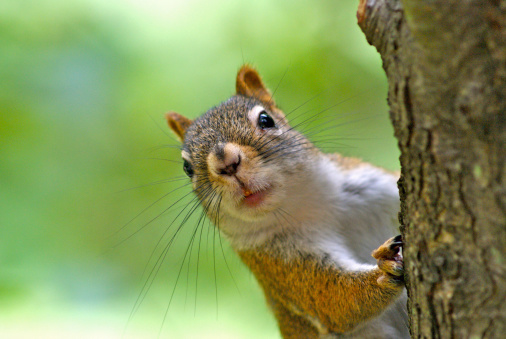squirrel: (145, 59, 400, 339)
